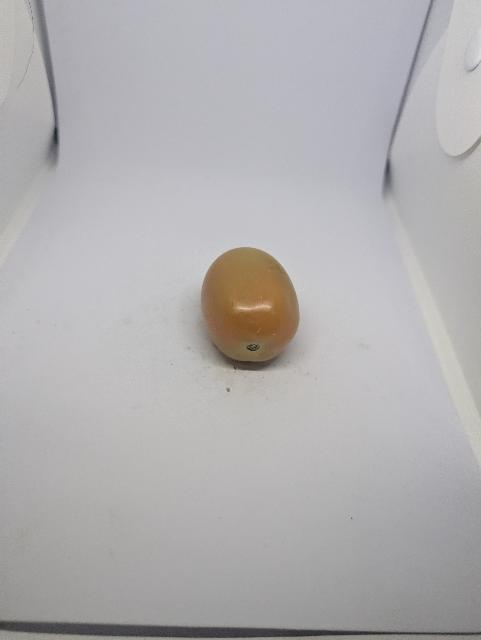turning: (200, 242, 307, 372)
